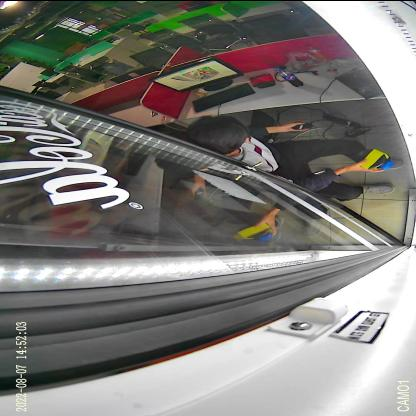blue: (374, 157, 394, 169)
yellow: (355, 147, 390, 169)
